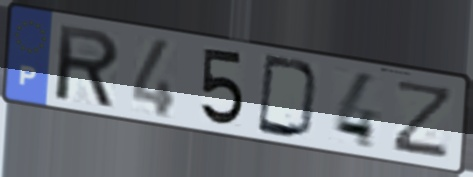4: (328, 69, 383, 153), (128, 35, 178, 121)
5: (199, 47, 246, 128)
D: (254, 52, 324, 142)
R: (55, 22, 123, 112)
Z: (388, 77, 457, 160)
